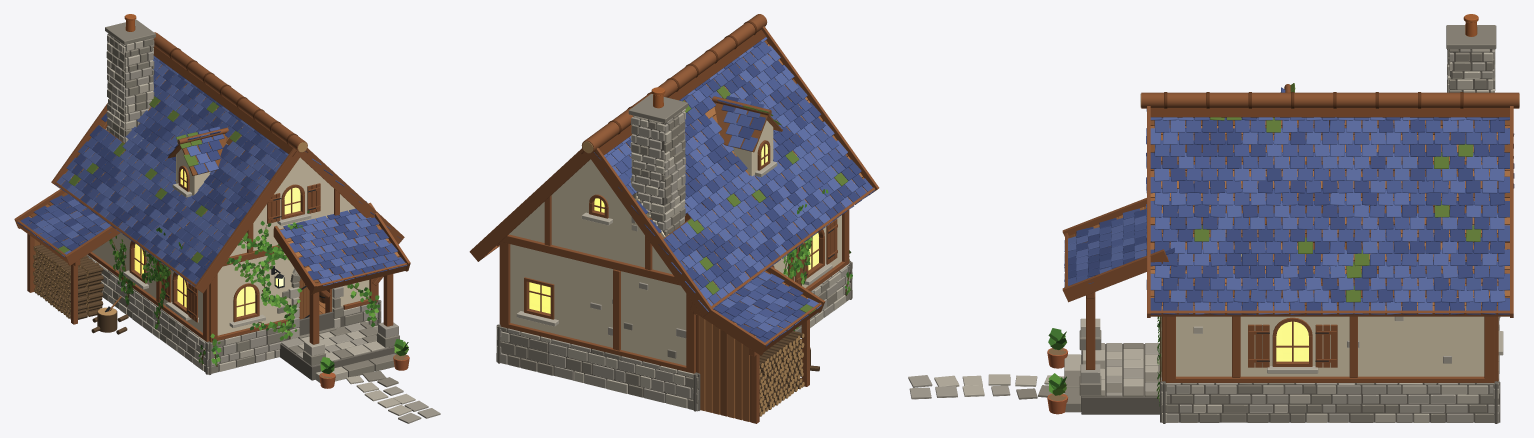
File: House_Cottage.glb
The picture shows the model from 3 angles, left to right: view 1: azimuth 30°, elevation 25°; view 2: azimuth 150°, elevation 25°; view 3: azimuth 270°, elevation 25°; orthographic projection. The views are drawn at different scales.
Visible parts, largest first — view 1: HC_Roof_Tiles, HC_Stone, HC_Ridge, HC_Walls, HC_Chimney, HC_Ivy, HC_Firewood, HC_Windows, HC_Timber, HC_Yard, HC_Roof_Deck, HC_Glass (+3 smaller); view 2: HC_Roof_Tiles, HC_Walls, HC_Ridge, HC_Stone, HC_Timber, HC_Chimney, HC_Shed, HC_Firewood, HC_Windows, HC_Roof_Deck, HC_Glass, HC_Ivy (+1 smaller); view 3: HC_Roof_Tiles, HC_Stone, HC_Ridge, HC_Walls, HC_Roof_Deck, HC_Timber, HC_Yard, HC_Chimney, HC_Windows, HC_Glass, HC_Porch.
Part boxes in pixels (x1,y1,x2,y2): HC_Roof_Tiles: [17, 56, 407, 286]; HC_Stone: [87, 183, 399, 382]; HC_Ridge: [14, 32, 410, 294]; HC_Walls: [92, 80, 369, 335]; HC_Chimney: [105, 14, 155, 152]; HC_Ivy: [109, 210, 379, 366]; HC_Firewood: [33, 244, 128, 334]; HC_Windows: [129, 165, 331, 322]; HC_Timber: [78, 171, 378, 342]; HC_Yard: [319, 339, 440, 423]; HC_Roof_Deck: [26, 64, 405, 288]; HC_Glass: [134, 169, 300, 316]; HC_Roof_Tiles: [594, 37, 874, 346]; HC_Walls: [509, 86, 841, 365]; HC_Ridge: [469, 14, 879, 355]; HC_Stone: [496, 160, 852, 411]; HC_Timber: [499, 169, 850, 373]; HC_Chimney: [628, 87, 687, 236]; HC_Shed: [693, 308, 809, 423]; HC_Firewood: [759, 331, 819, 416]; HC_Windows: [524, 140, 837, 319]; HC_Roof_Deck: [497, 40, 866, 346]; HC_Glass: [529, 144, 818, 313]; HC_Ivy: [783, 189, 852, 331]; HC_Roof_Tiles: [1064, 83, 1514, 314]; HC_Stone: [1064, 316, 1503, 423]; HC_Ridge: [1062, 84, 1519, 317]; HC_Walls: [1169, 125, 1489, 376]; HC_Roof_Deck: [1069, 120, 1509, 316]; HC_Timber: [1161, 161, 1498, 382]; HC_Yard: [908, 328, 1067, 414]; HC_Chimney: [1446, 14, 1496, 188]; HC_Windows: [1248, 317, 1337, 367]; HC_Glass: [1241, 254, 1308, 361]; HC_Porch: [1086, 292, 1095, 369].
Size of the model in its own units: 7.79 by 7.69 by 13.01.
